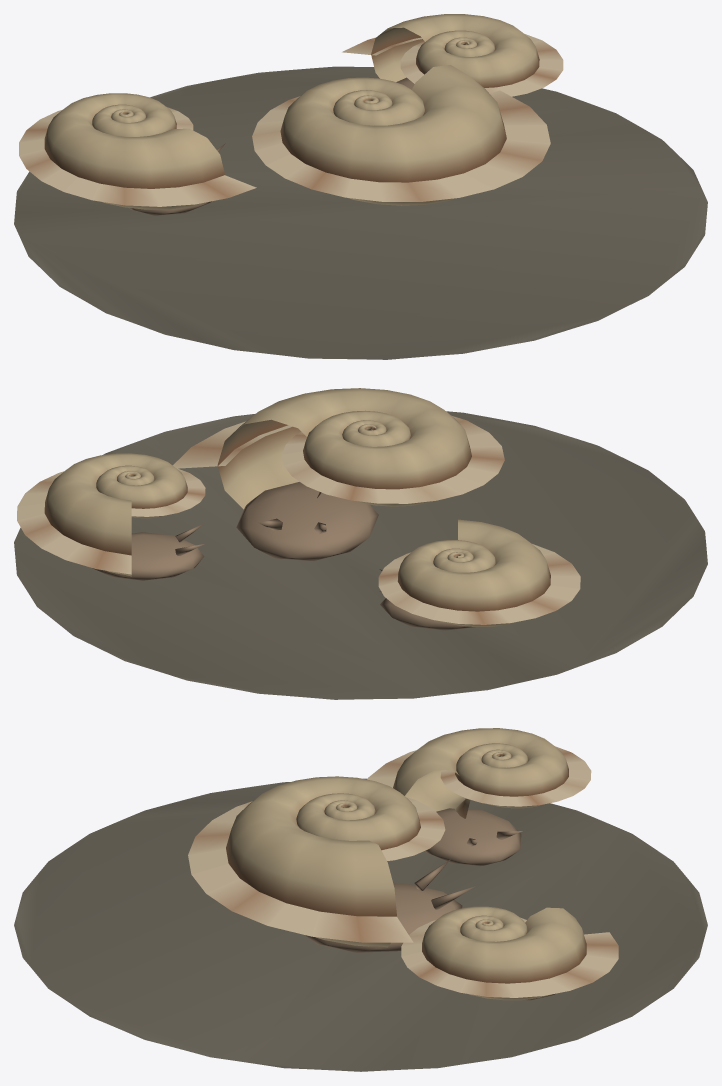
Rendered from EuomphalopterusAlatus.fbx.
The picture shows the model from 3 angles, top to bottom: view 1: azimuth 30°, elevation 25°; view 2: azimuth 150°, elevation 25°; view 3: azimuth 270°, elevation 25°; orthographic projection.
Visible parts, largest first — view 1: EuomphalopterusAlatus; view 2: EuomphalopterusAlatus; view 3: EuomphalopterusAlatus.
Part boxes in pixels (x1,y1,x2,y2): EuomphalopterusAlatus: [14, 14, 707, 359]; EuomphalopterusAlatus: [14, 388, 707, 699]; EuomphalopterusAlatus: [14, 728, 707, 1071].
Bounding box in the file's own units: 2.1 × 0.4 × 2.1.
